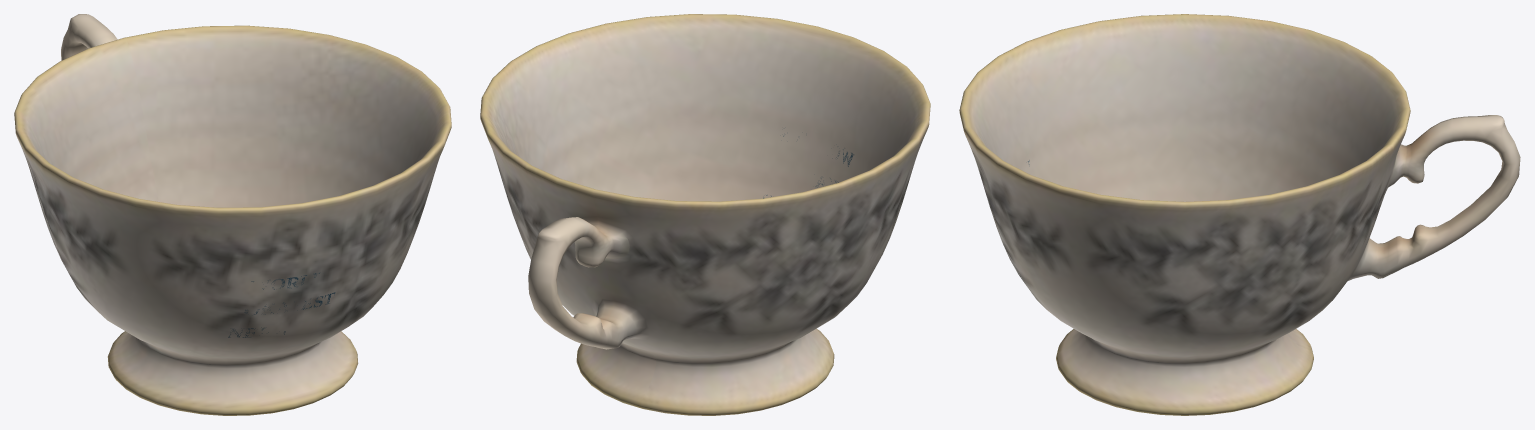
The model's file is ph-thrift-neighbor-mug.glb.
The picture shows the model from 3 angles, left to right: view 1: azimuth 30°, elevation 25°; view 2: azimuth 150°, elevation 25°; view 3: azimuth 270°, elevation 25°; orthographic projection. The views are drawn at different scales.
Visible parts, largest first — view 1: tea_set_01_cup_small_01; view 2: tea_set_01_cup_small_01; view 3: tea_set_01_cup_small_01.
Part boxes in pixels (<box>): tea_set_01_cup_small_01: <box>14,14,451,415</box>; tea_set_01_cup_small_01: <box>480,14,930,415</box>; tea_set_01_cup_small_01: <box>959,14,1520,415</box>.
Bounding box in the file's own units: 0.2381 × 0.15 × 0.2961.
2 materials, 2 textured.
